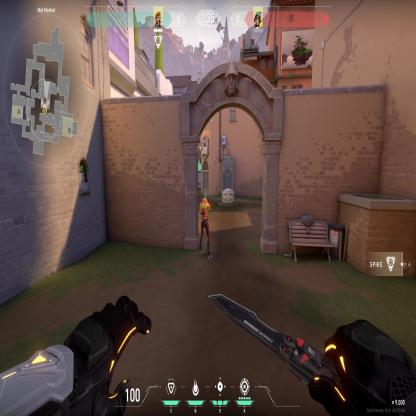enemy: (198, 191, 213, 261)
